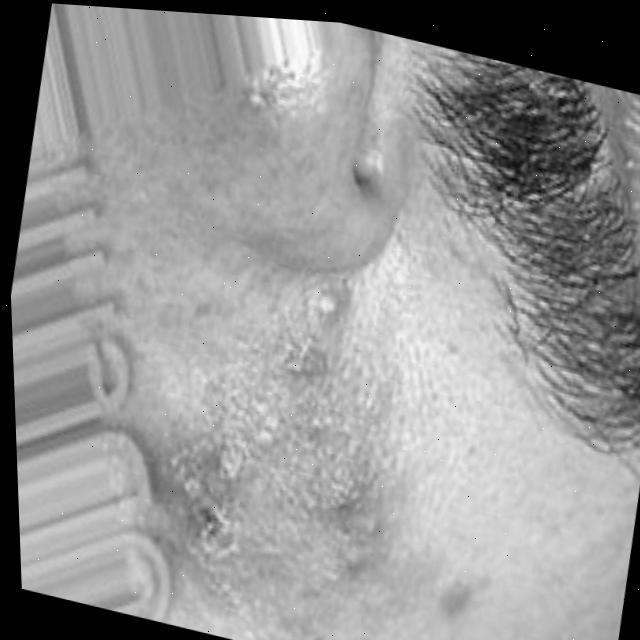Rosacea: (133, 249, 433, 610)
